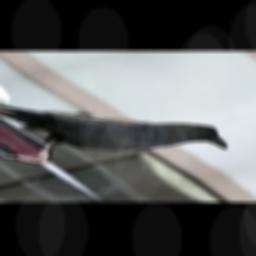Crow: (0, 68, 242, 184)
